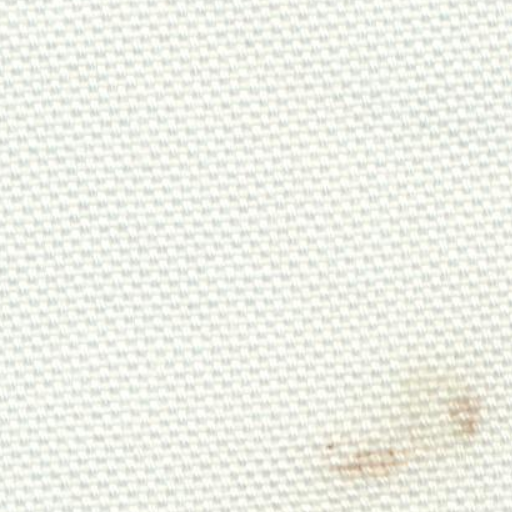WuZi: (317, 347, 498, 492)
